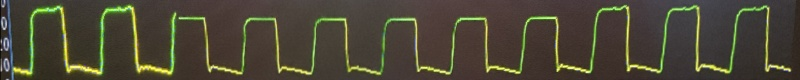normal_pressure: (12, 5, 800, 78)
